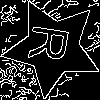R: (27, 22, 79, 66)
